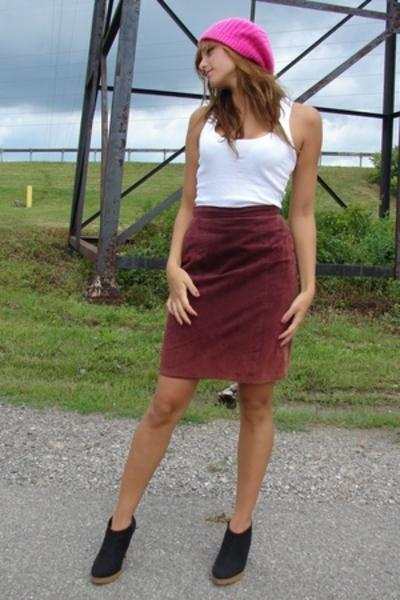hat: (198, 20, 272, 59)
shirt: (195, 101, 299, 207)
shoe: (91, 515, 251, 578)
skirt: (160, 204, 301, 387)
